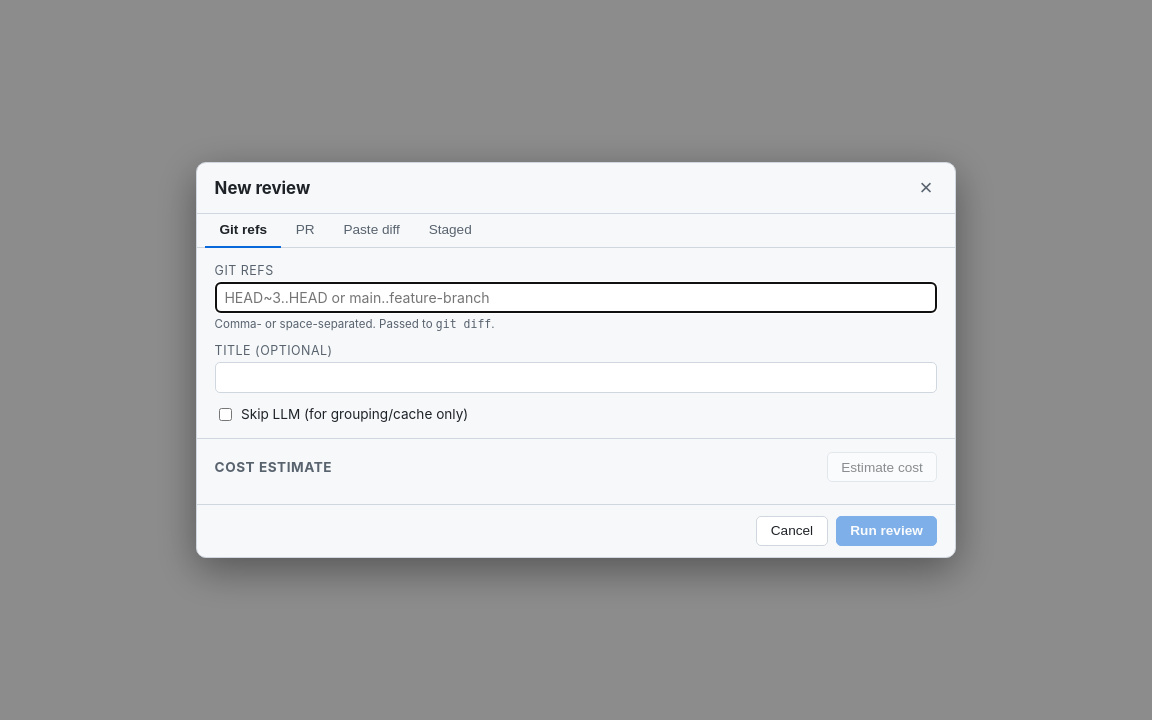
NewReviewDialog › shows preview error inline without blocking Run review
Type "HEAD~1..HEAD" into the field labelled "Git refs" at (576, 298), box [215,282,937,313]
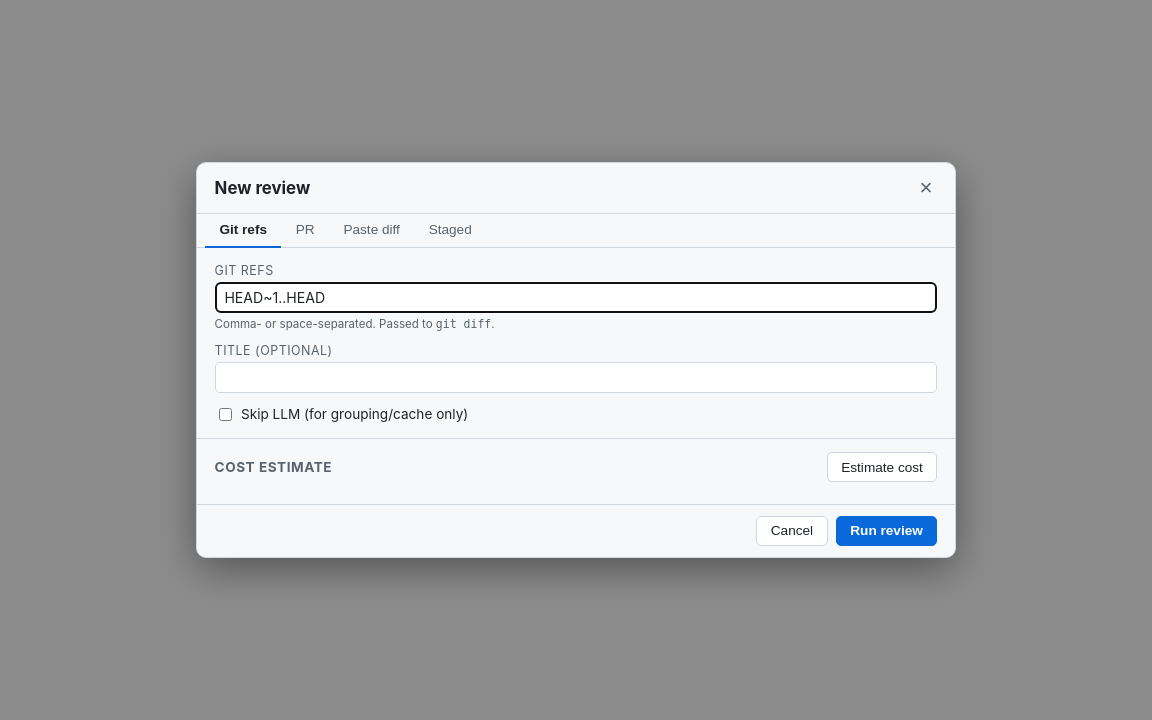
Click the button "Estimate cost" at (882, 467), box [827,452,937,482]
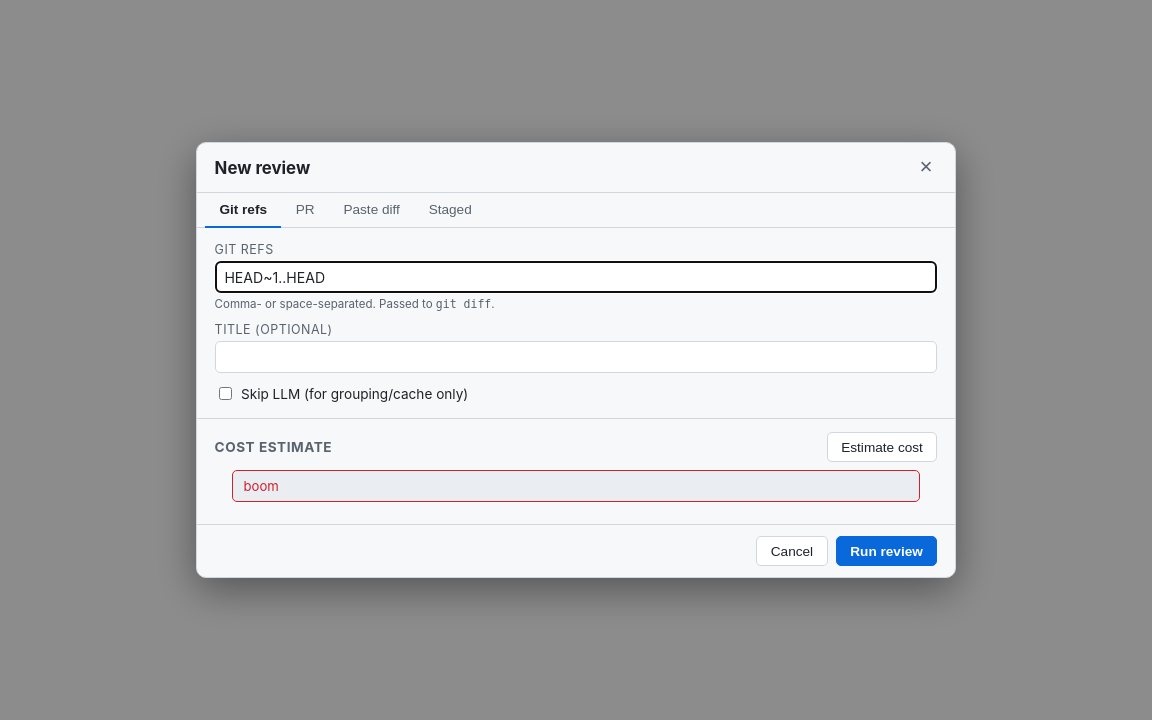
Result: the button "Run review" is enabled at [836,536,937,566]
Result: the text "boom" is shown at [232,470,920,502]
